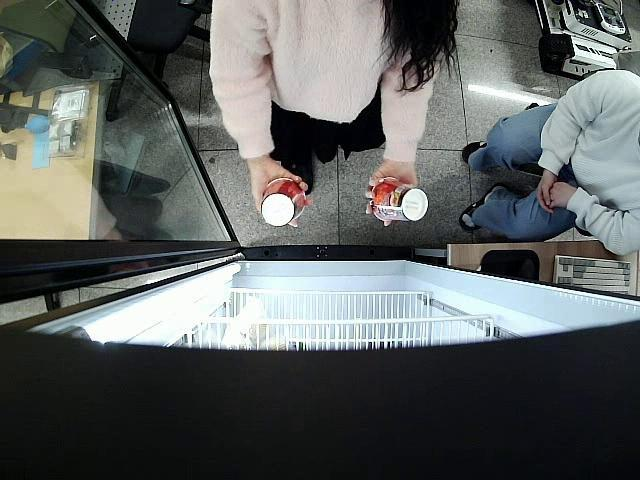02_shinRamen_S: (370, 176, 429, 224), (258, 176, 307, 229)
